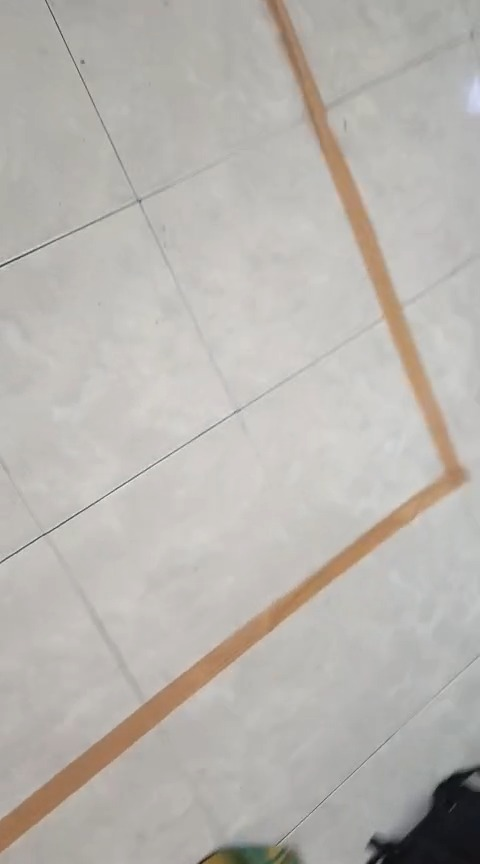floor marking: (0, 0, 467, 851)
